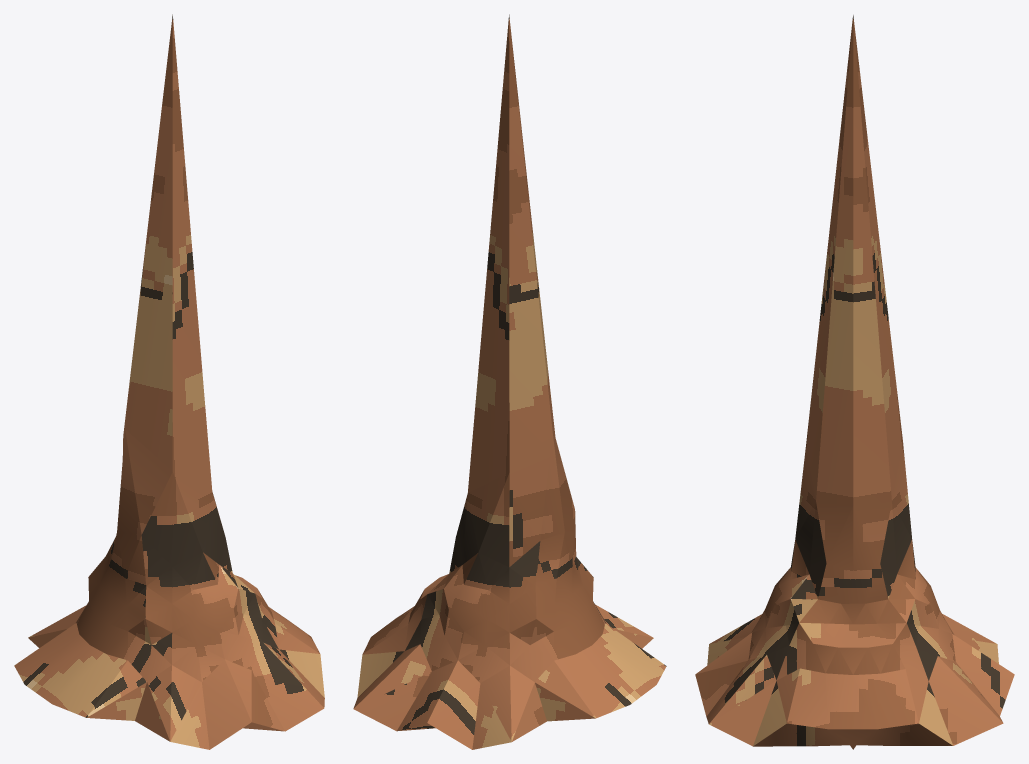
Rendered from stalagmite-300-6.glb.
The picture shows the model from 3 angles, left to right: view 1: azimuth 30°, elevation 25°; view 2: azimuth 150°, elevation 25°; view 3: azimuth 270°, elevation 25°; orthographic projection.
Size of the model in its own units: 0.3369 by 0.863 by 0.3529.
Materials: 1 (1 with a texture image).
